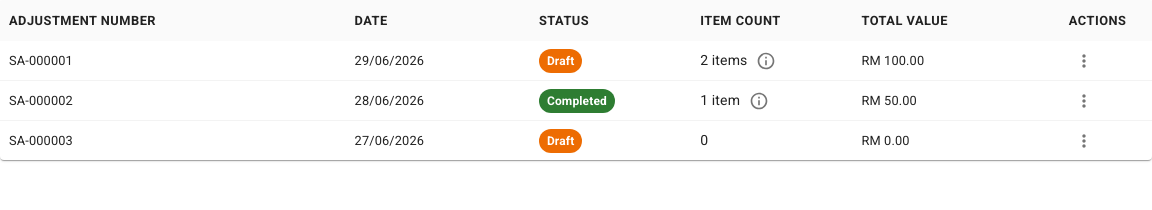
Test: closes the popover on Escape
Click the button named "show products" next to "2 items" at [766, 60], box 752,46 -> 782,76
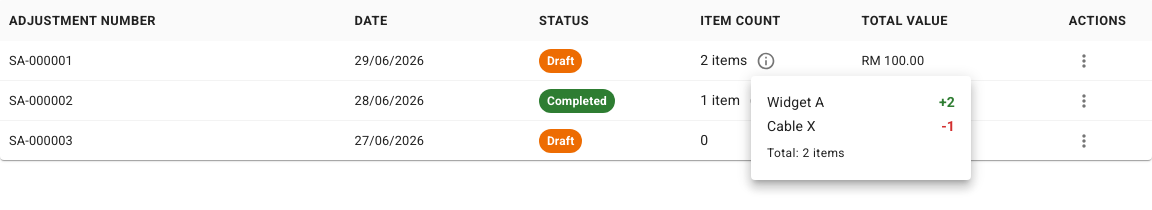
Check: the text "Widget A" is shown
Press Escape in the text "Widget A", box 767,92 -> 824,112
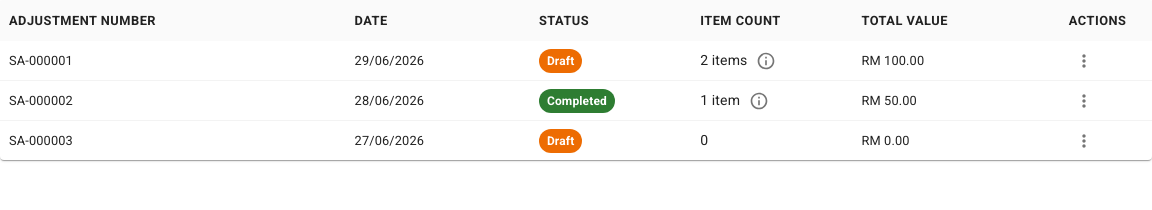
Check: the text "Widget A" is gone
